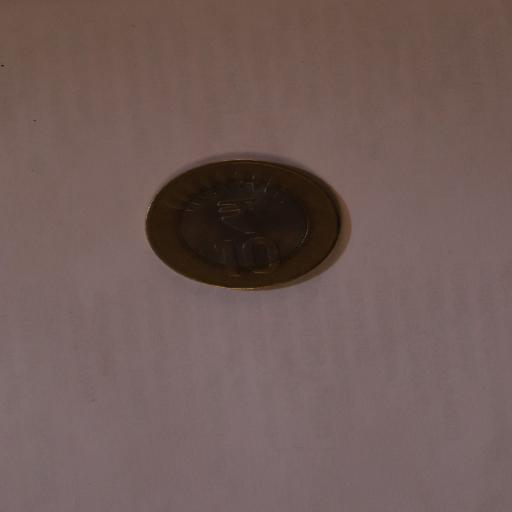rupee10: (142, 158, 347, 291)
